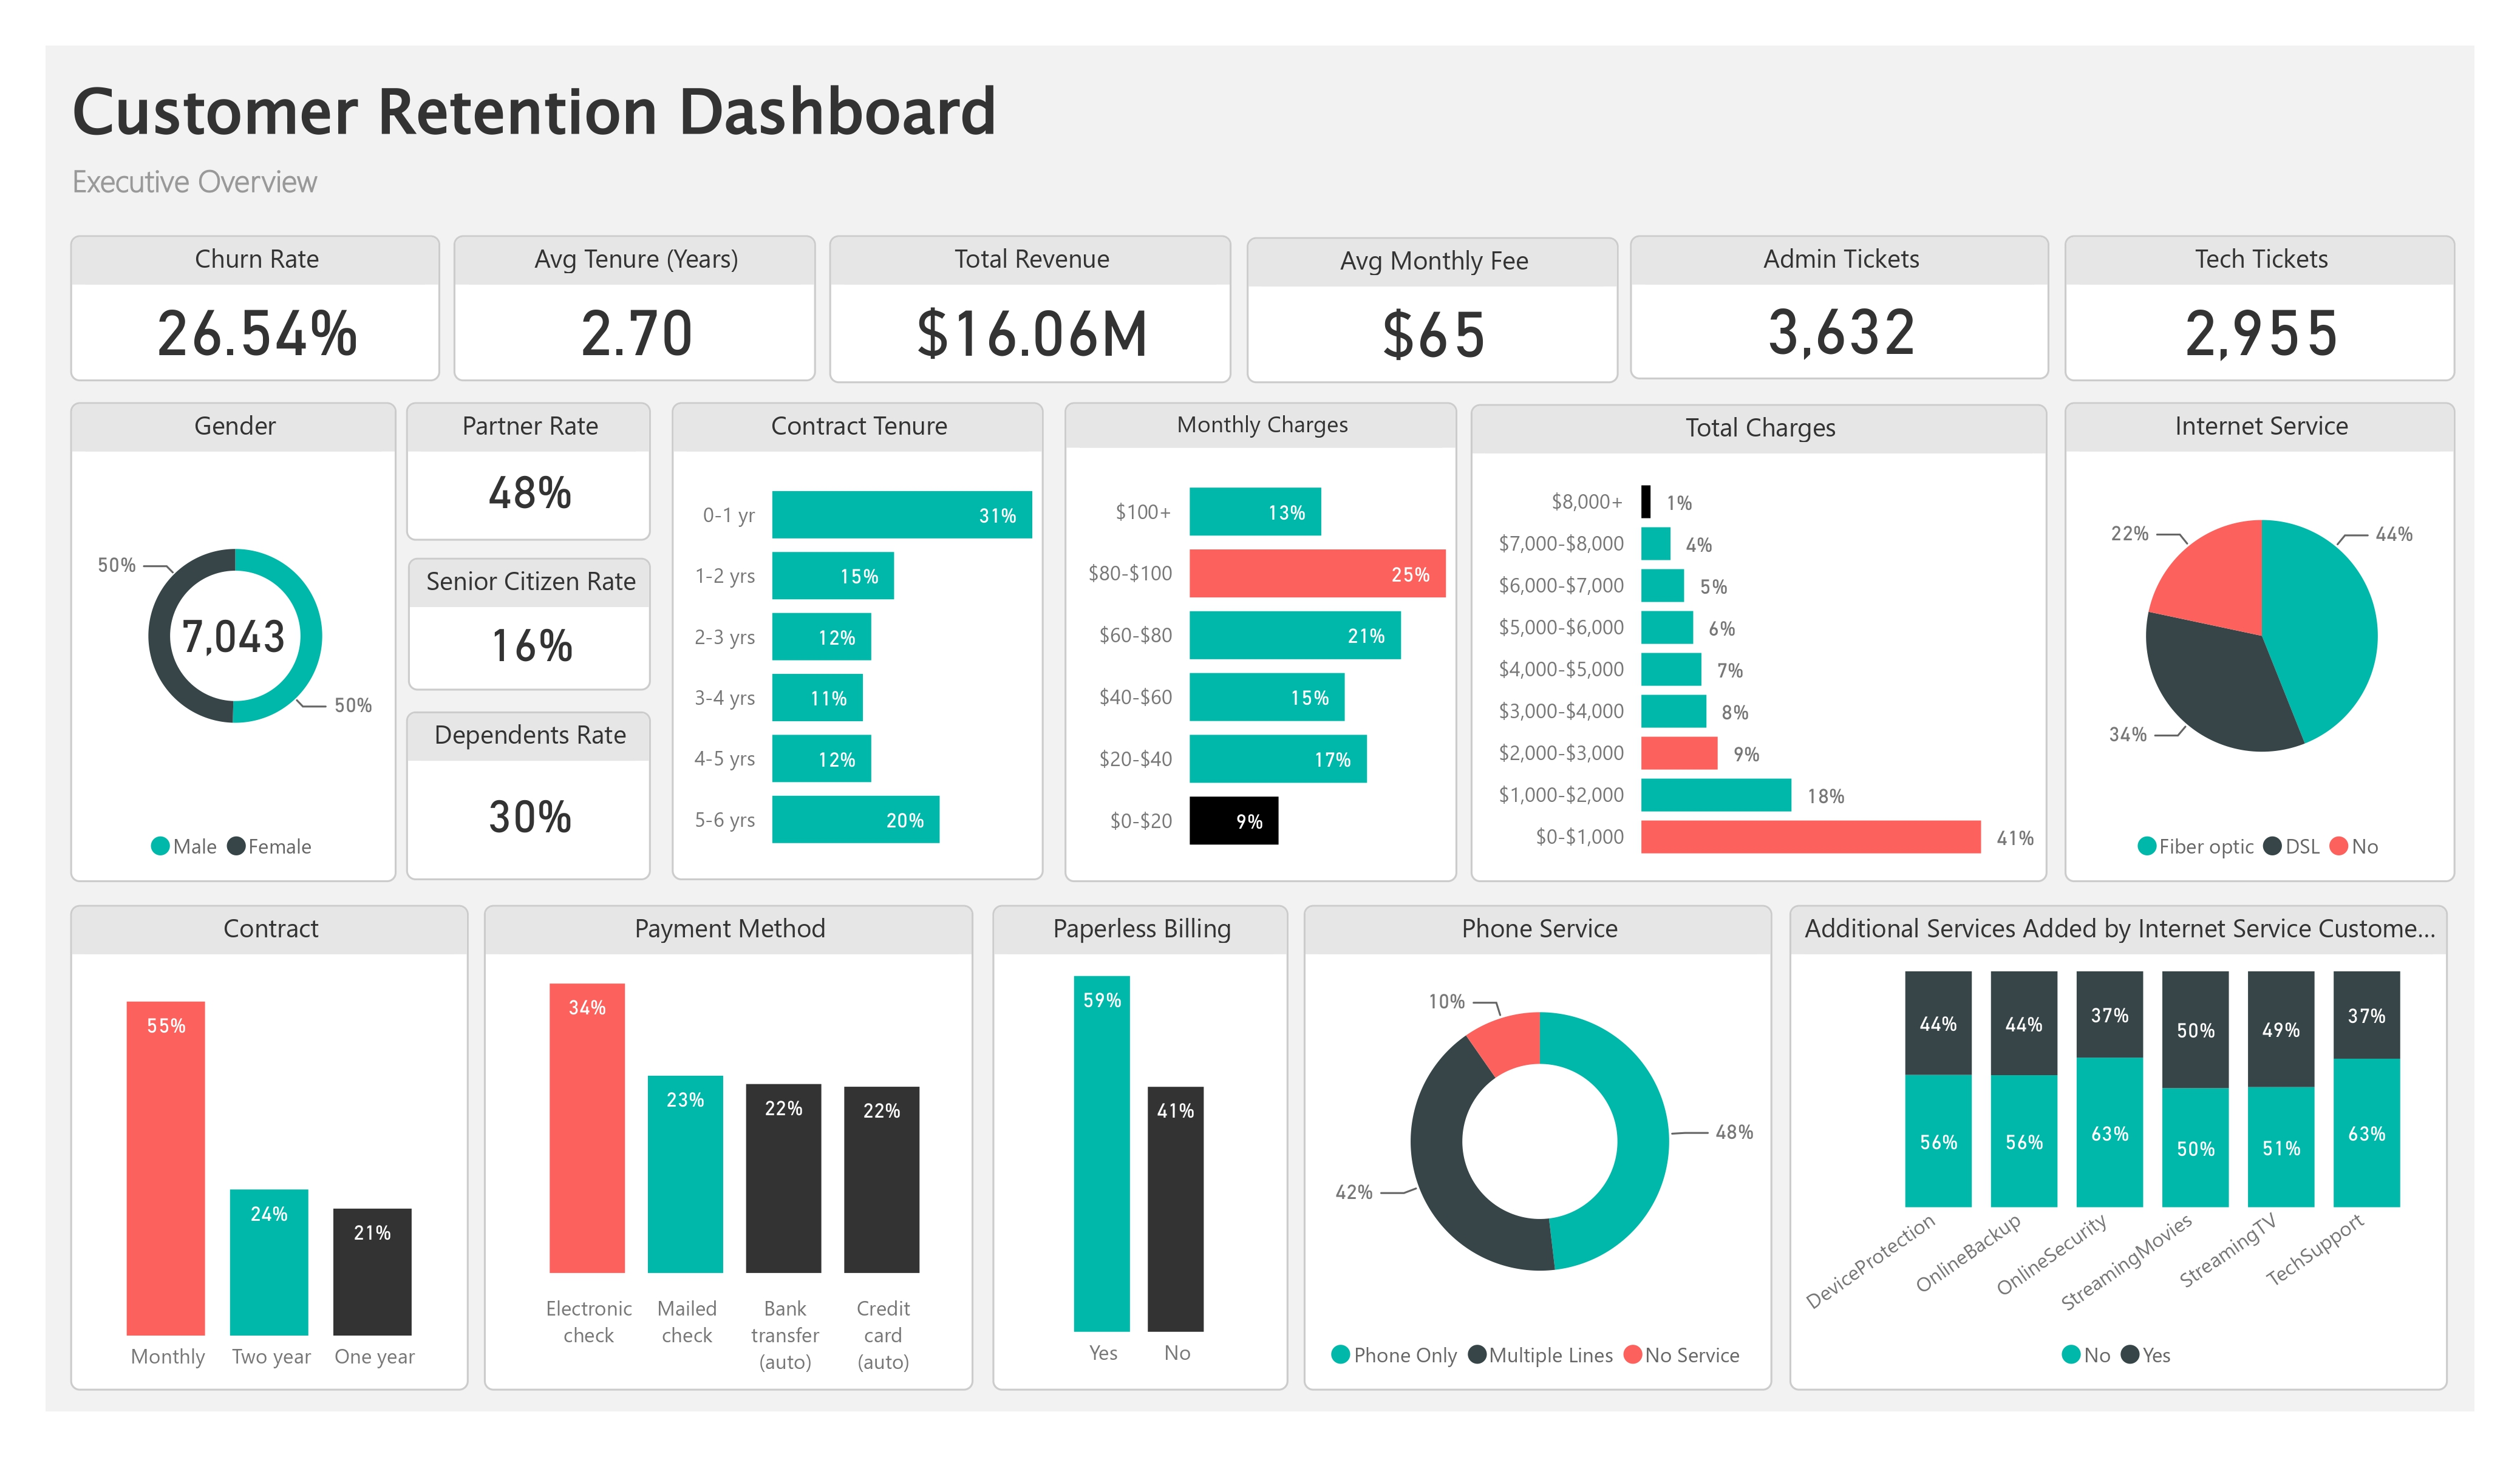

What the dashboard file says about the page in this screenshot:
{"tool":"powerbi","page":{"name":"Executive Overview","canvas":[1280,720],"ordinal":0},"visuals":[{"type":"donutChart","title":"Gender","fields":{"Category":["01 Churn-Dataset.gender"],"Y":["CountNonNull(01 Churn-Dataset.gender)"]},"box":[12.9,188.2,171.8,252.9],"z":8000},{"type":"textbox","title":"Customer Retention Analysis","box":[8.9,5.6,512.2,84.4],"z":16000},{"type":"card","fields":{"Values":["01 Churn-Dataset.Customers"]},"box":[40.6,265.9,116.5,89.4],"z":17000},{"type":"card","title":"Total Revenue","fields":{"Values":["01 Churn-Dataset.Total Revenue"]},"box":[412.5,100,212.5,77.5],"z":18000},{"type":"card","title":"Churn Rate","fields":{"Values":["01 Churn-Dataset.Churn Rate"]},"box":[13.3,100,194.7,76.7],"z":19000},{"type":"pieChart","title":"Internet Service","fields":{"Category":["01 Churn-Dataset.InternetService"],"Y":["CountNonNull(01 Churn-Dataset.InternetService)"]},"box":[1064.3,187.9,205.7,253.6],"z":20000},{"type":"card","title":"Avg Monthly Fee","fields":{"Values":["01 Churn-Dataset.Average Monthly Charges"]},"box":[632.5,101.2,196.2,76.2],"z":21000},{"type":"card","title":"Avg Tenure (Years)","fields":{"Values":["01 Churn-Dataset.Avg Tenure (Years)"]},"box":[214.7,100,191.3,77.3],"z":22000},{"type":"clusteredColumnChart","title":"Payment Method","fields":{"Category":["01 Churn-Dataset.PaymentMethod"],"Y":["Divide(CountNonNull(01 Churn-Dataset.PaymentMethod), ScopedEval(CountNonNull(01 Churn-Dataset.PaymentMethod), []))"]},"box":[230.7,452.9,258.6,255.7],"z":23000},{"type":"columnChart","title":"Contract","fields":{"Category":["01 Churn-Dataset.Contract"],"Y":["Divide(CountNonNull(01 Churn-Dataset.Contract), ScopedEval(CountNonNull(01 Churn-Dataset.Contract), []))"]},"box":[12.9,452.9,210,255.7],"z":24000},{"type":"card","title":"Partner Rate","fields":{"Values":["01 Churn-Dataset.Partner Rate"]},"box":[190,188,129,73],"z":25000},{"type":"card","title":"Senior Citizen Rate","fields":{"Values":["01 Churn-Dataset.Senior Citizen Rate"]},"box":[191,270,128,70],"z":26000},{"type":"card","title":"Dependents Rate","fields":{"Values":["01 Churn-Dataset.Dependents Rate"]},"box":[190,351,129,89],"z":27000},{"type":"donutChart","title":"Phone Service","fields":{"Category":["01 Churn-Dataset.Phone Category"],"Y":["CountNonNull(01 Churn-Dataset.Phone Category)"]},"box":[662.9,452.9,247.1,255.7],"z":28000},{"type":"hundredPercentStackedColumnChart","title":"Additional Services Added by Internet Service Customers","fields":{"Category":["Additional Services.Service"],"Y":["CountNonNull(Additional Services.customerID)"],"Series":["Additional Services.Status"]},"box":[918.6,452.9,347.9,255.7],"z":29000},{"type":"clusteredColumnChart","title":"Paperless Billing","fields":{"Category":["01 Churn-Dataset.PaperlessBilling"],"Y":["CountNonNull(01 Churn-Dataset.PaperlessBilling)"]},"box":[499.2,453.1,156.2,256.2],"z":31000},{"type":"card","title":"Tech Tickets","fields":{"Values":["Sum(01 Churn-Dataset.numTechTickets)"]},"box":[1064.2,100,205.8,76.7],"z":32000},{"type":"card","title":"Admin Tickets","fields":{"Values":["Sum(01 Churn-Dataset.numAdminTickets)"]},"box":[835,100,221.2,76.2],"z":33000},{"type":"clusteredBarChart","title":"Contract Tenure","fields":{"Category":["01 Churn-Dataset.tenure (groups)"],"Y":["CountNonNull(01 Churn-Dataset.tenure (groups))"]},"box":[330,188,196,252],"z":35000},{"type":"clusteredBarChart","title":"Monthly Charges","fields":{"Category":["01 Churn-Dataset.Monthly Charge Group"],"Y":["CountNonNull(01 Churn-Dataset.Monthly Charge Group)"]},"box":[537,188,207,253],"z":36000},{"type":"clusteredBarChart","title":"Total Charges","fields":{"Category":["01 Churn-Dataset.Total Charges Group"],"Y":["CountNonNull(01 Churn-Dataset.Total Charges Group)"]},"box":[751,189,304,252],"z":37000}]}

Visuals, with their boxes on the page's 1280x720 design canvas (x1, y1, x2, y2). These are canvas units, not pixel positions in the 2520x1457 screenshot, which may show the page scaled, cropped or inside an application window:
"Gender" donutChart: bbox=(13, 188, 185, 441)
"Customer Retention Analysis" textbox: bbox=(9, 6, 521, 90)
card - 01 Churn-Dataset.Customers: bbox=(41, 266, 157, 355)
"Total Revenue" card: bbox=(412, 100, 625, 178)
"Churn Rate" card: bbox=(13, 100, 208, 177)
"Internet Service" pieChart: bbox=(1064, 188, 1270, 442)
"Avg Monthly Fee" card: bbox=(632, 101, 829, 177)
"Avg Tenure (Years)" card: bbox=(215, 100, 406, 177)
"Payment Method" clusteredColumnChart: bbox=(231, 453, 489, 709)
"Contract" columnChart: bbox=(13, 453, 223, 709)
"Partner Rate" card: bbox=(190, 188, 319, 261)
"Senior Citizen Rate" card: bbox=(191, 270, 319, 340)
"Dependents Rate" card: bbox=(190, 351, 319, 440)
"Phone Service" donutChart: bbox=(663, 453, 910, 709)
"Additional Services Added by Internet Service Customers" hundredPercentStackedColumnChart: bbox=(919, 453, 1266, 709)
"Paperless Billing" clusteredColumnChart: bbox=(499, 453, 655, 709)
"Tech Tickets" card: bbox=(1064, 100, 1270, 177)
"Admin Tickets" card: bbox=(835, 100, 1056, 176)
"Contract Tenure" clusteredBarChart: bbox=(330, 188, 526, 440)
"Monthly Charges" clusteredBarChart: bbox=(537, 188, 744, 441)
"Total Charges" clusteredBarChart: bbox=(751, 189, 1055, 441)
